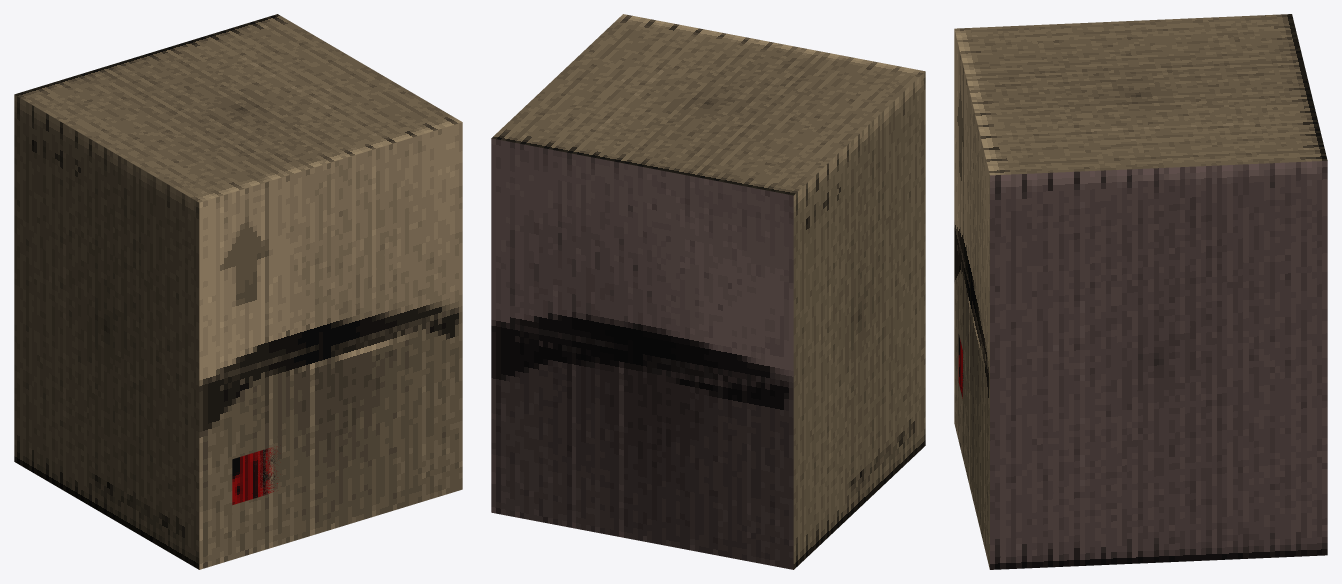
File: primary_205.glb
3 views of the same model, side by side, from view 1: azimuth 30°, elevation 25°; view 2: azimuth 150°, elevation 25°; view 3: azimuth 270°, elevation 25° (orthographic). The views are drawn at different scales.
Visible parts, largest first — view 1: Object; view 2: Object; view 3: Object.
Part boxes in pixels (bbox=[...]): Object: bbox=[14, 14, 462, 569]; Object: bbox=[491, 14, 925, 569]; Object: bbox=[954, 14, 1327, 569].
Size of the model in its own units: 0.9597 by 1.09 by 0.938.
Materials: 7 (7 with a texture image).
